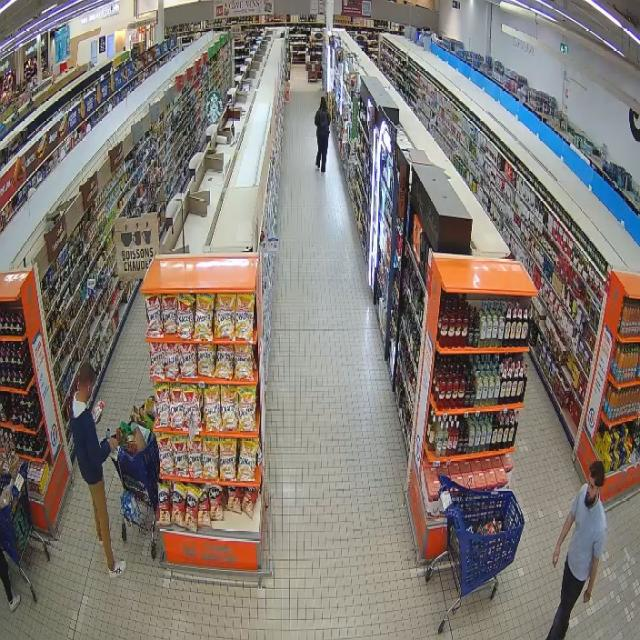article: (92, 399, 106, 425)
hands: (553, 546, 560, 566), (108, 438, 118, 451), (584, 589, 590, 603)
person: (70, 363, 126, 576), (548, 461, 606, 639), (0, 551, 20, 612), (315, 97, 329, 173)
